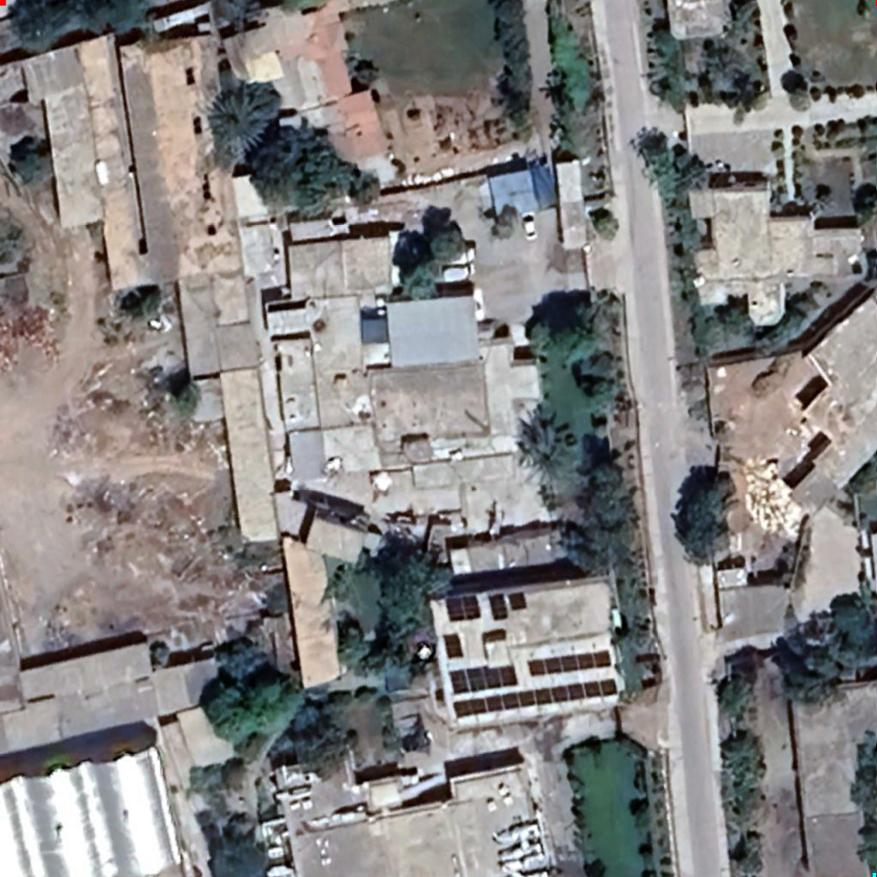Solarpanel: (452, 672, 625, 724), (441, 590, 541, 630), (525, 644, 617, 684), (445, 664, 517, 699), (440, 630, 468, 662)
